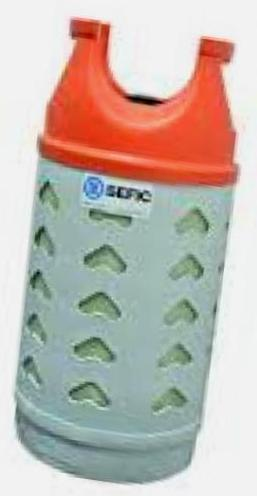cylinder: (1, 1, 257, 496)
